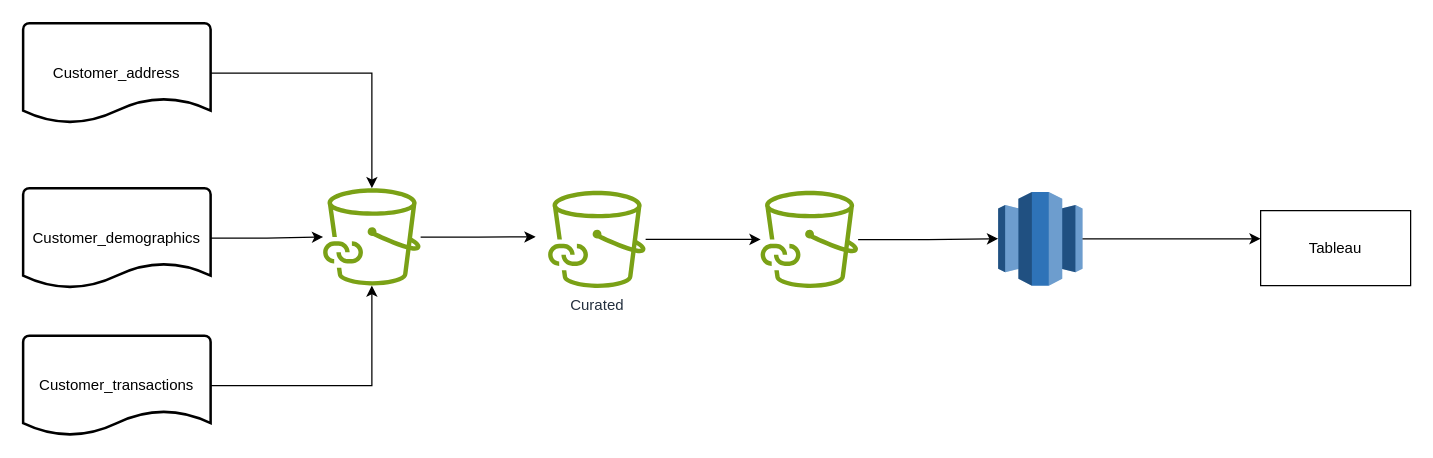
Some shapes in this 1433 by 458 pixel diagram are drawn without their labels. The shapes that lost their labels are listed below. From the top down, each one's centre as x and y in pixels, then its label:
the point at 371,236: Staging
the point at 809,239: Product
the point at 1039,238: Redshift
